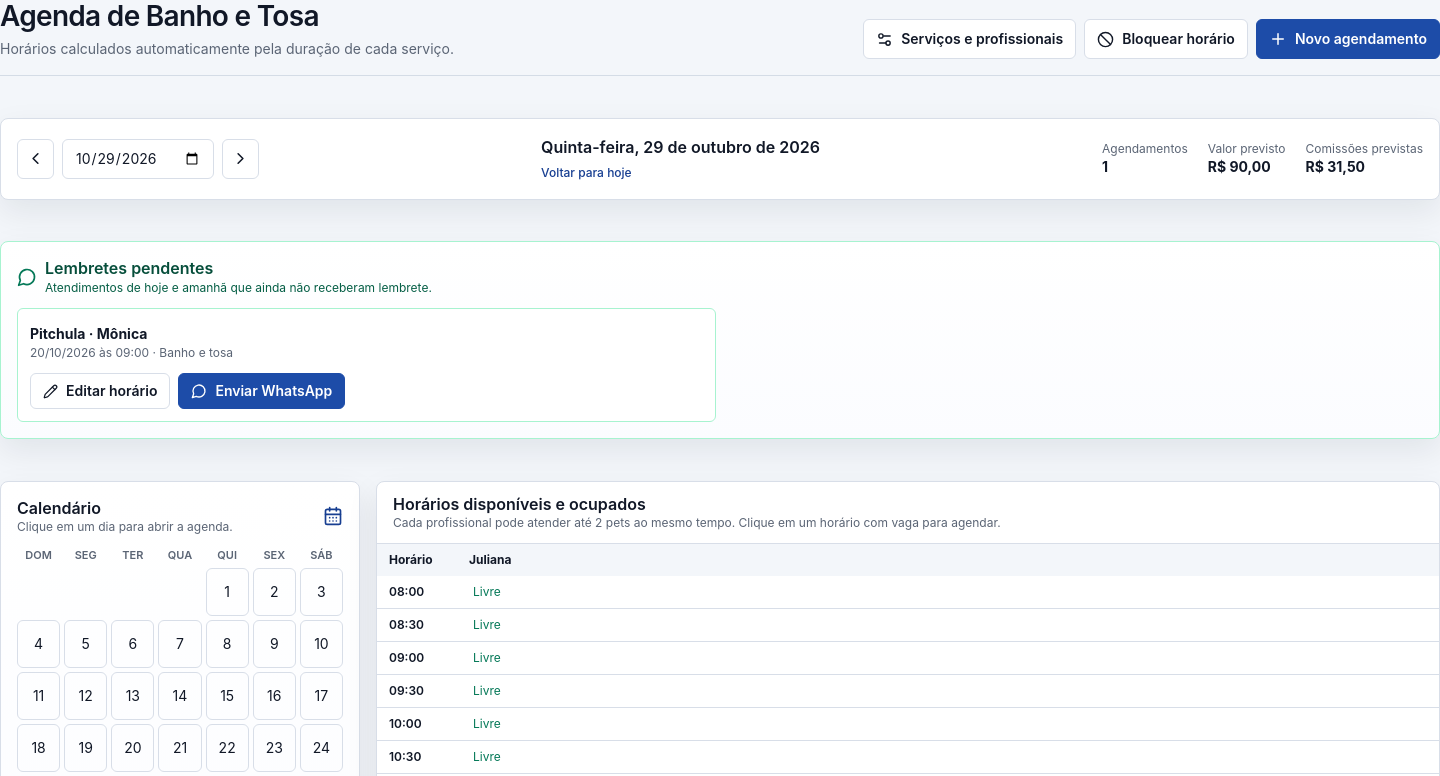
Test: comissões na agenda › carrega e salva o percentual brasileiro ao editar o profissional
Click the button "Serviços e profissionais" at (970,39), box x1=863 y1=19 x2=1076 y2=59
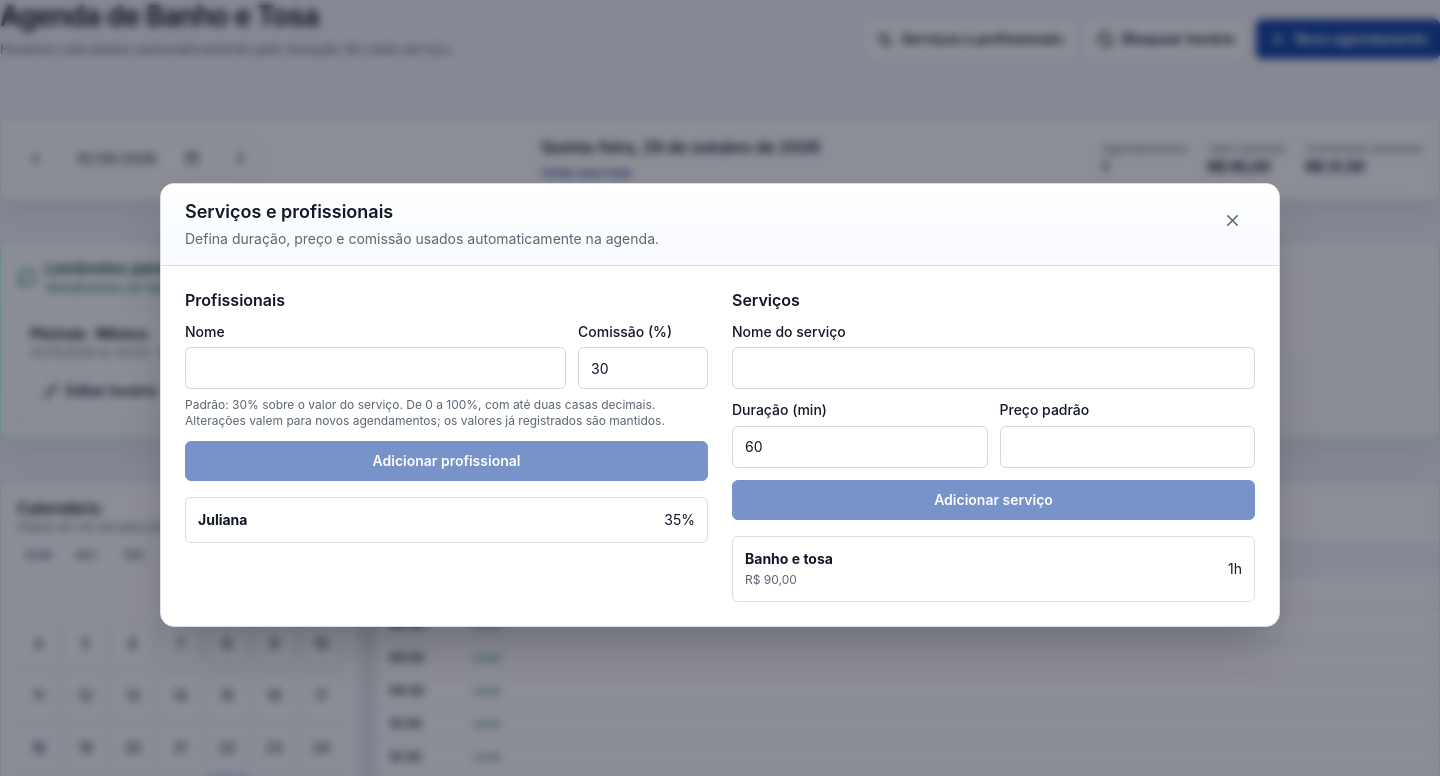
Click the button "Juliana 35%" at (223,520), box x1=185 y1=497 x2=708 y2=543
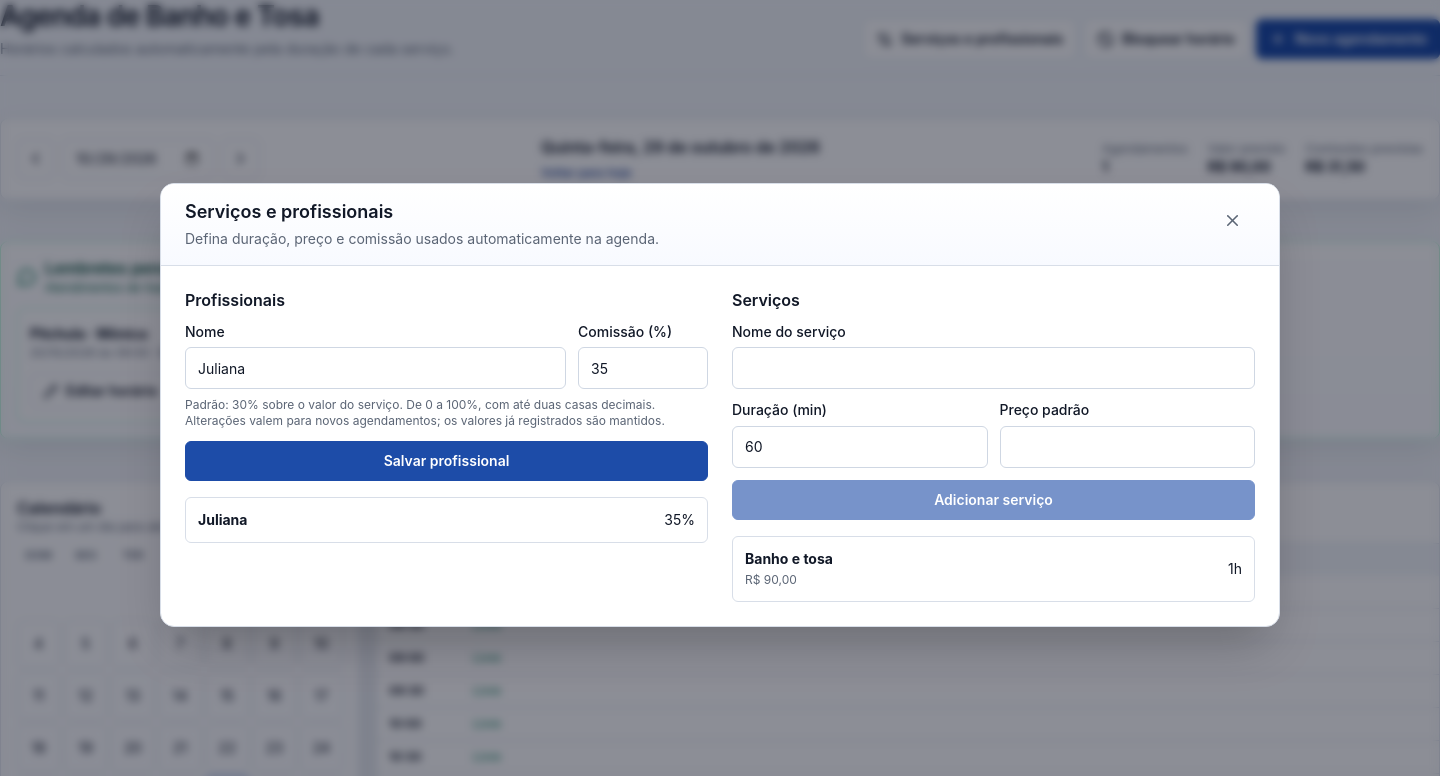
Now the field labelled "Comissão (%)" holds "35"
Replace the text in the field labelled "Comissão (%)" with "33,33" at (643,368), box x1=578 y1=347 x2=708 y2=389
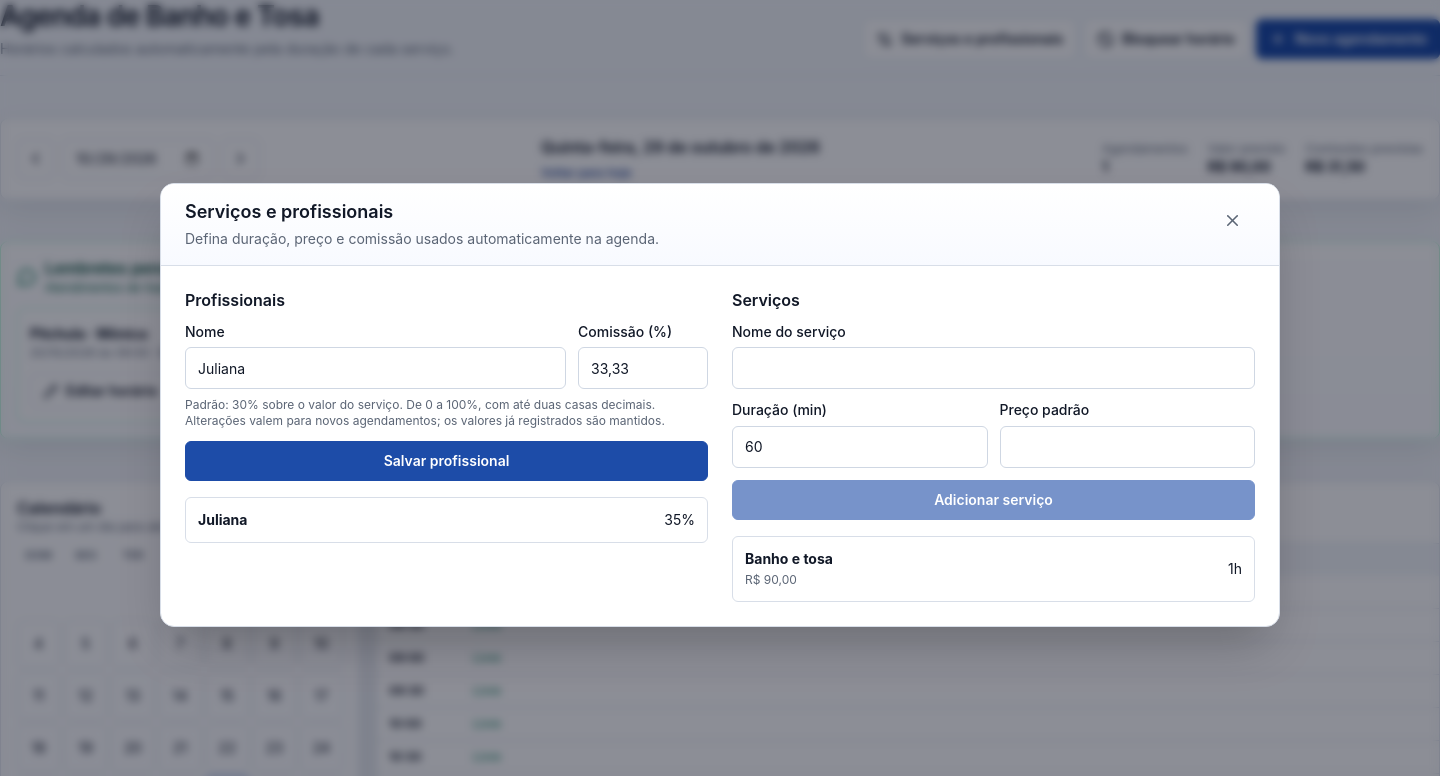
Click the button "Salvar profissional" at (446,461), box x1=185 y1=441 x2=708 y2=481
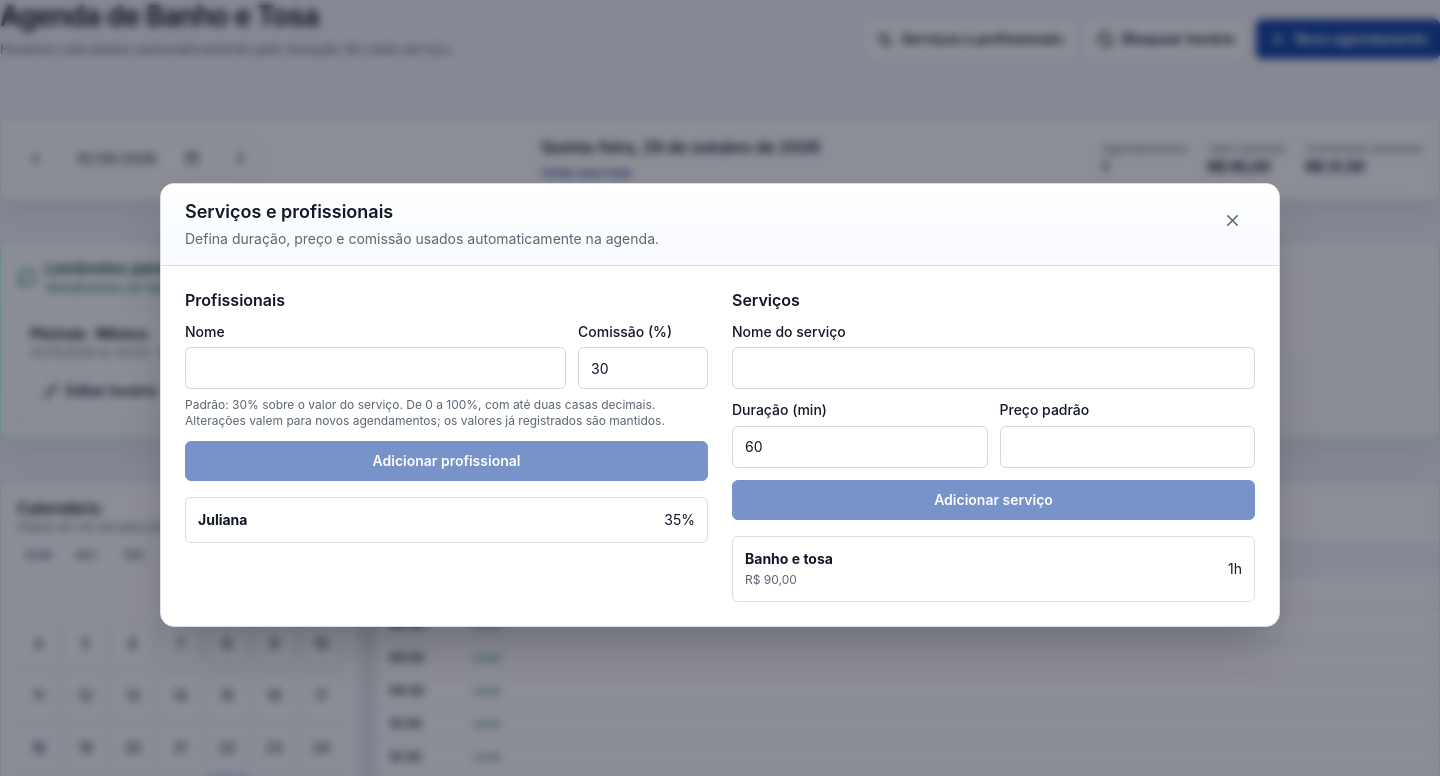
Now the field labelled "Comissão (%)" holds "30", box x1=578 y1=347 x2=708 y2=389
